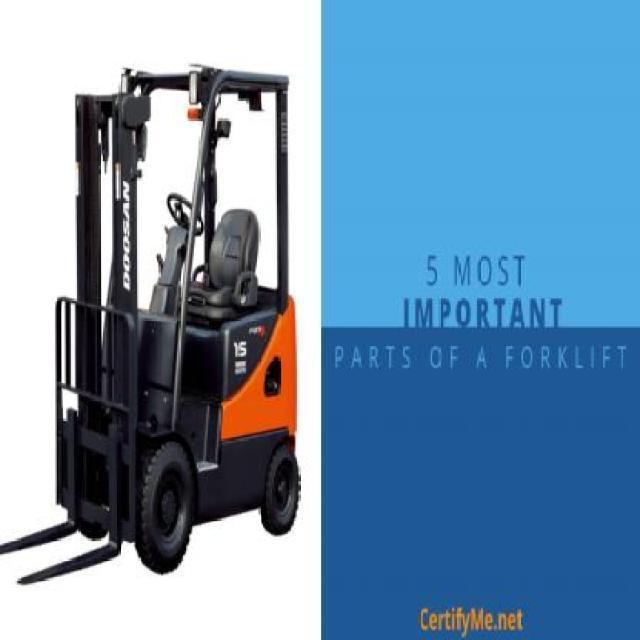forklift: (65, 63, 302, 574)
